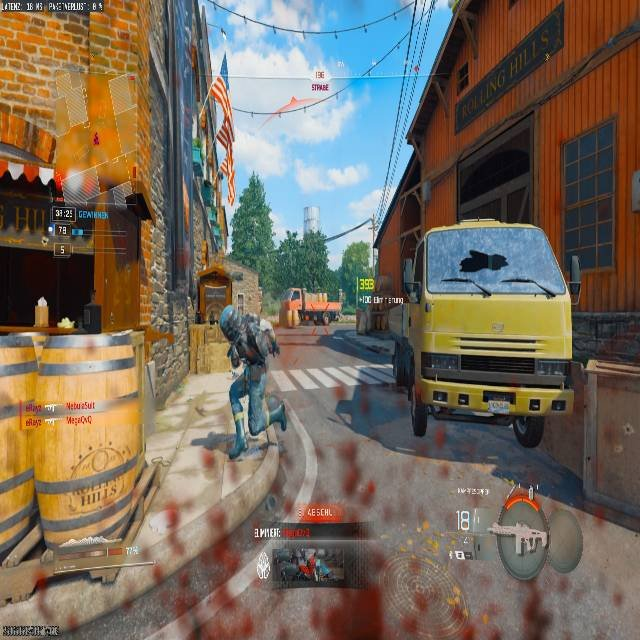head: (219, 305, 241, 341)
player: (218, 304, 281, 443), (220, 303, 274, 371)
